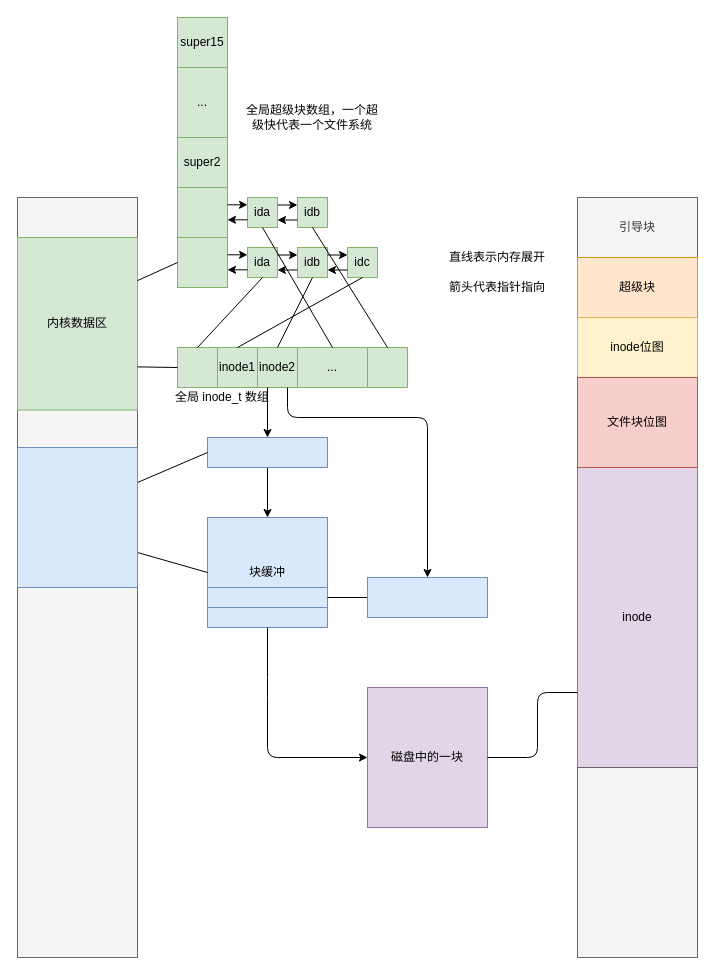
The diagram is 715 pixels wide and 975 high, and some of its shapes have lost their labels. The shapes that lost their labels are listed below. From the top down, each one's centre as x and y in pixels, then its label:
the point at 202,212: super1
the point at 202,262: super0
the point at 197,367: inode0
the point at 387,367: inode63
the point at 267,452: buffert_t
the point at 77,517: 内核缓冲区
the point at 427,597: inode_desc_t
the point at 77,757: 用户区
the point at 637,862: 文件块
